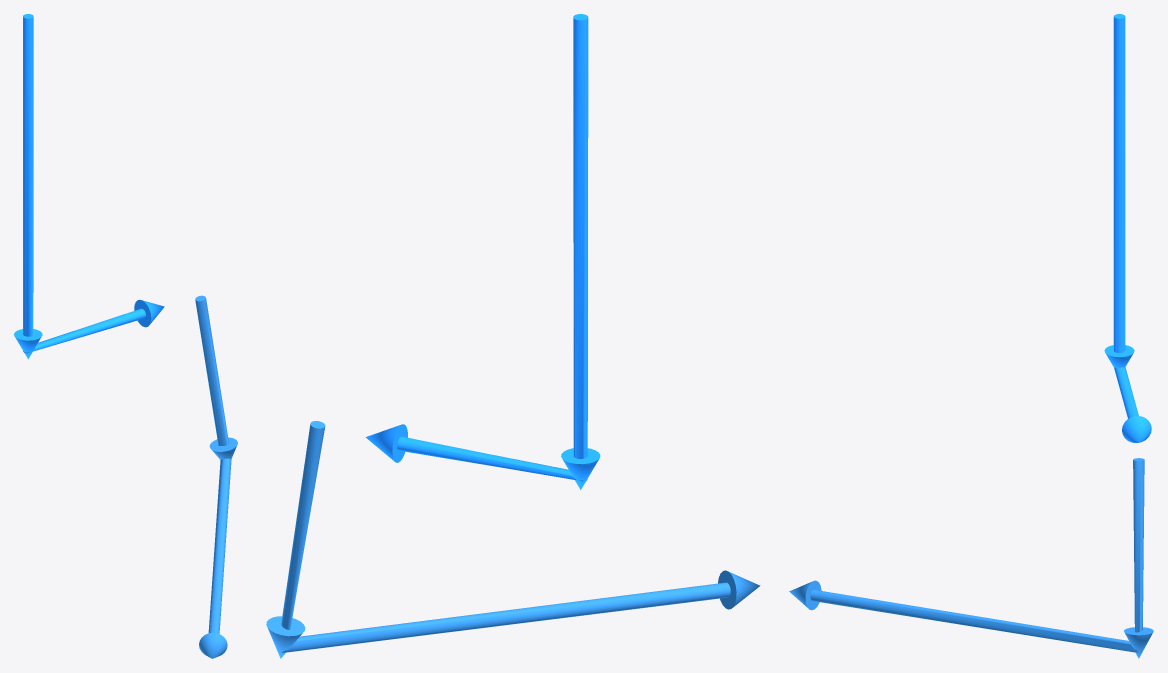
File: basket_centrifuge_flow.glb
The picture shows the model from 3 angles, left to right: view 1: azimuth 30°, elevation 25°; view 2: azimuth 150°, elevation 25°; view 3: azimuth 270°, elevation 25°; orthographic projection. The views are drawn at different scales.
Parts seen in each view (by area): view 1: feed, filtrate; view 2: filtrate, feed; view 3: filtrate, feed.
Boxes of the visible parts, x1,y1,x2,y2 form: feed: [14, 14, 164, 359]; filtrate: [195, 295, 237, 658]; filtrate: [266, 421, 760, 658]; feed: [365, 14, 600, 489]; filtrate: [789, 458, 1153, 658]; feed: [1104, 14, 1151, 442].
Size of the model in its own units: 0.7204 by 1.63 by 0.9443.
